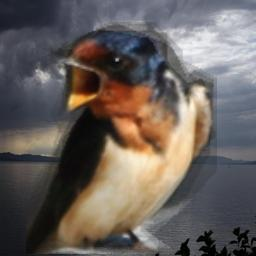Swallow: (26, 22, 217, 254)
